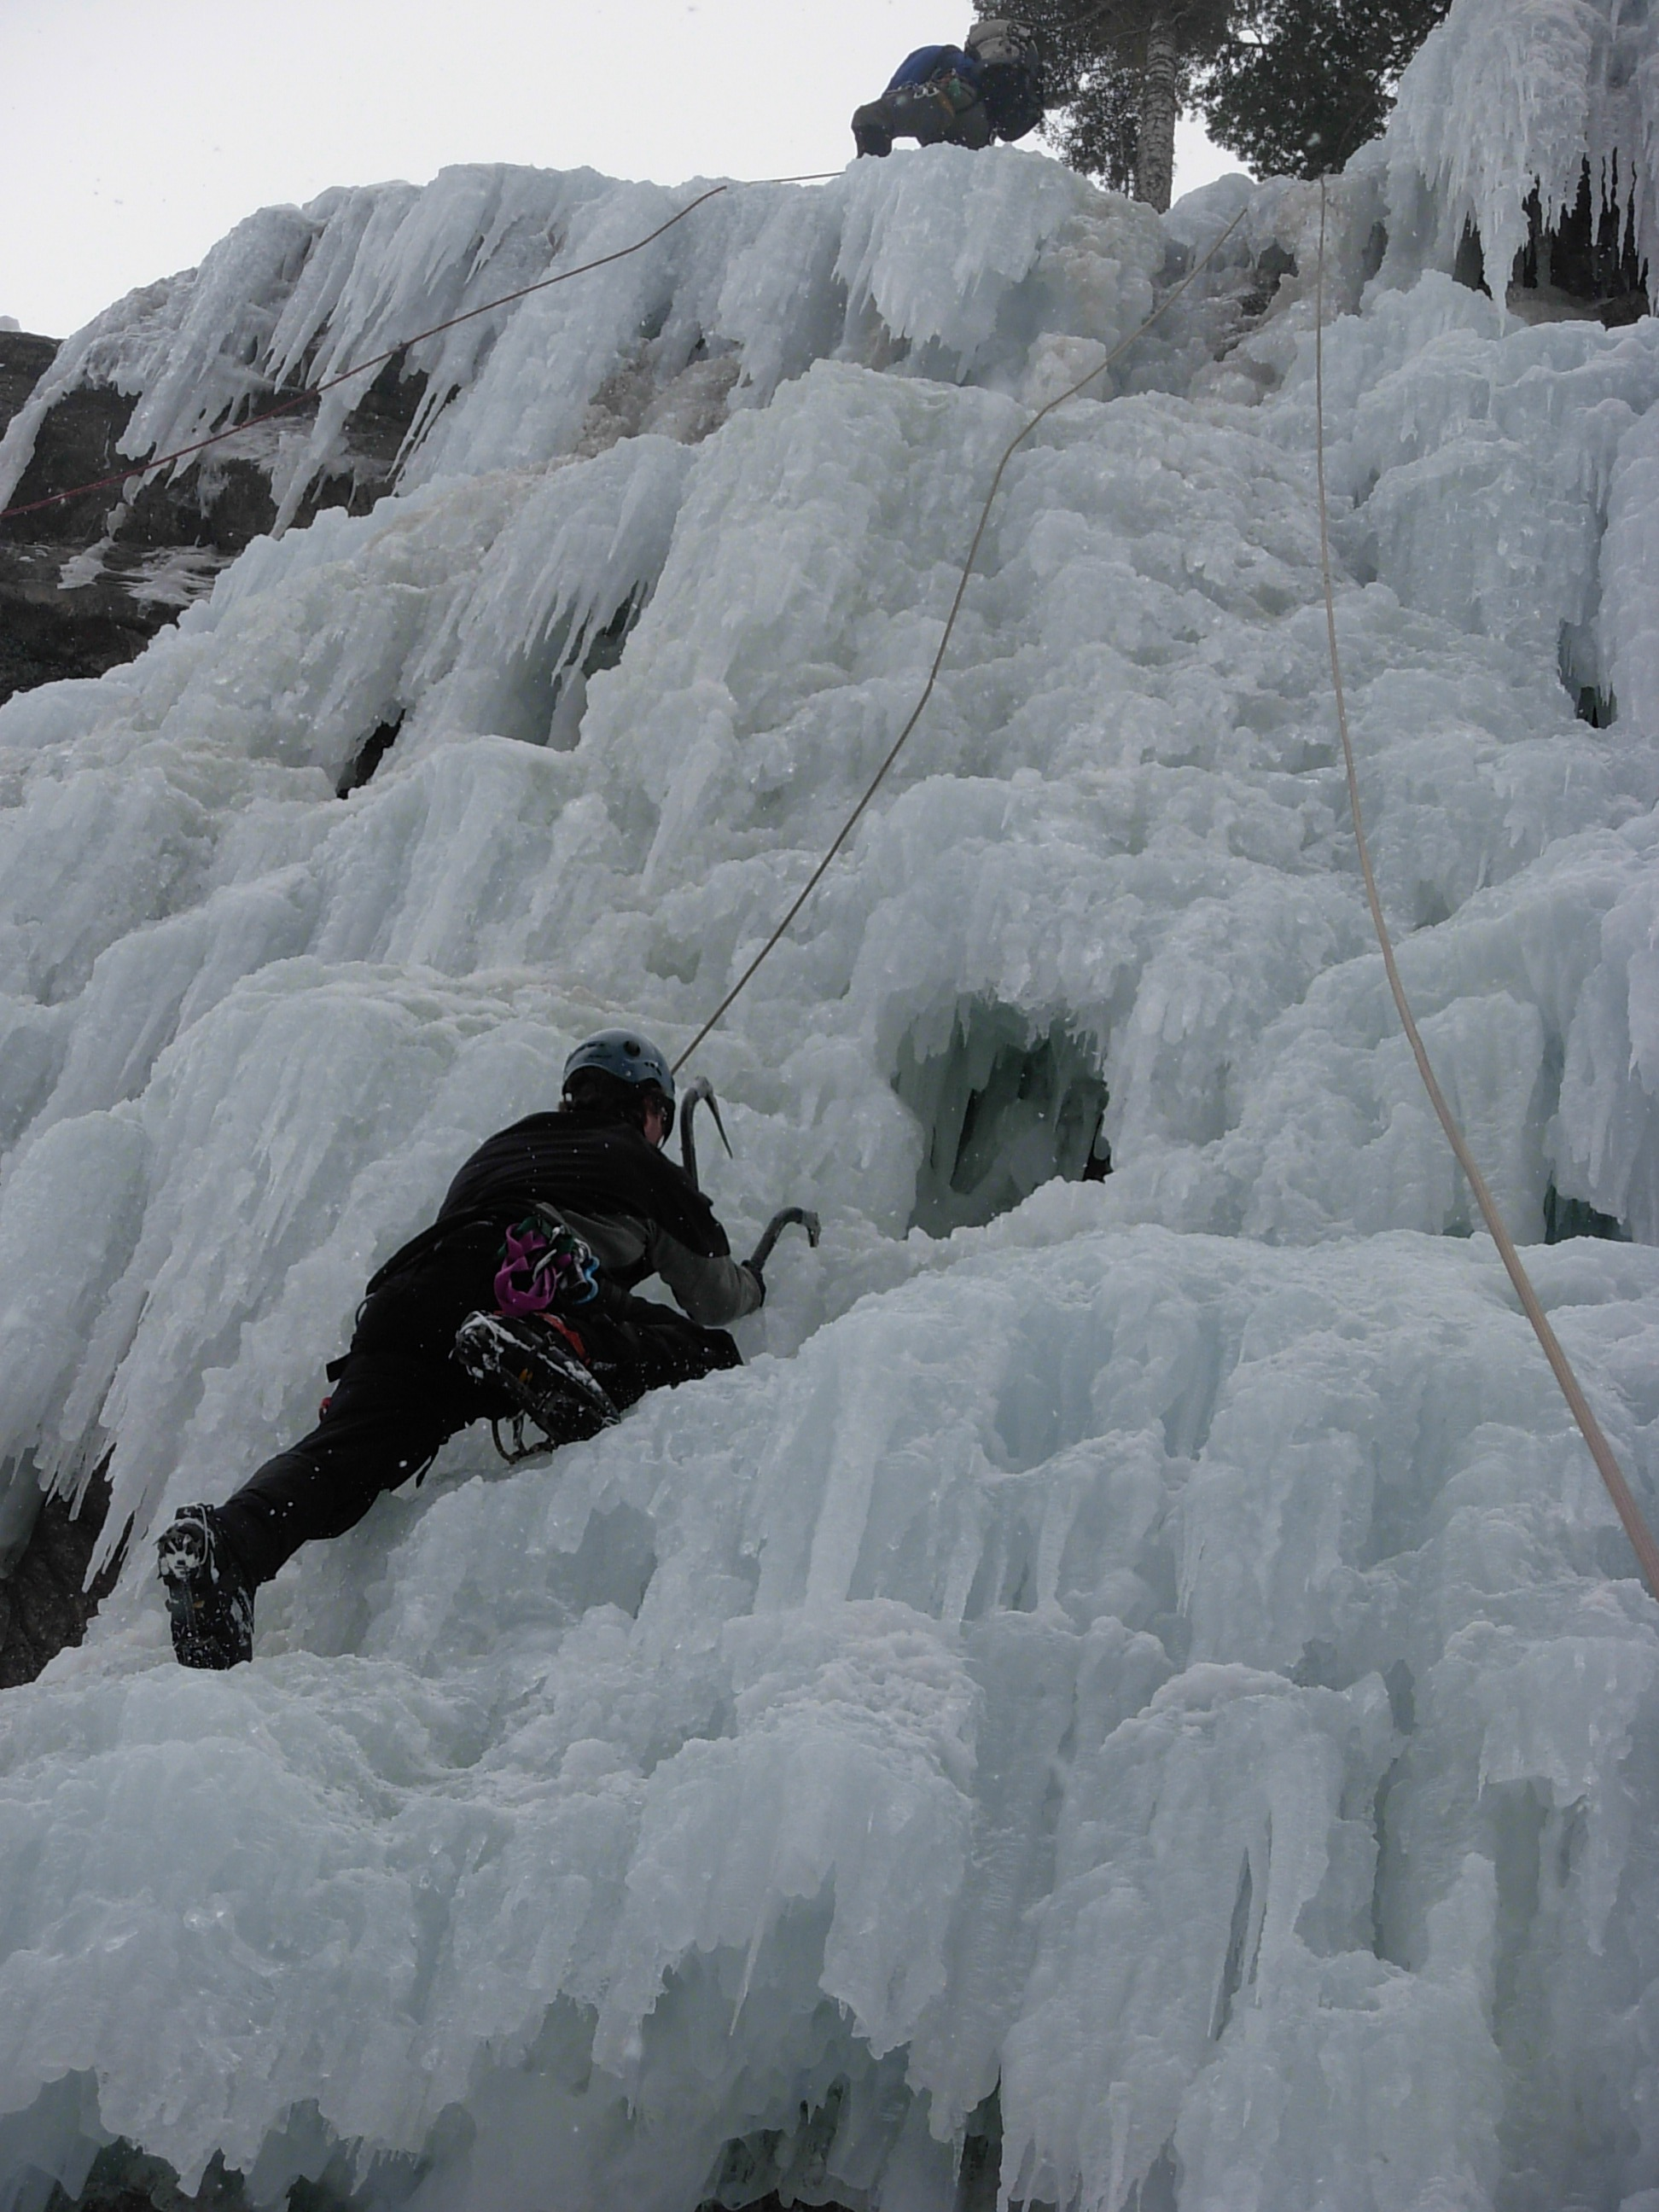helmet: (549, 1014, 685, 1125)
